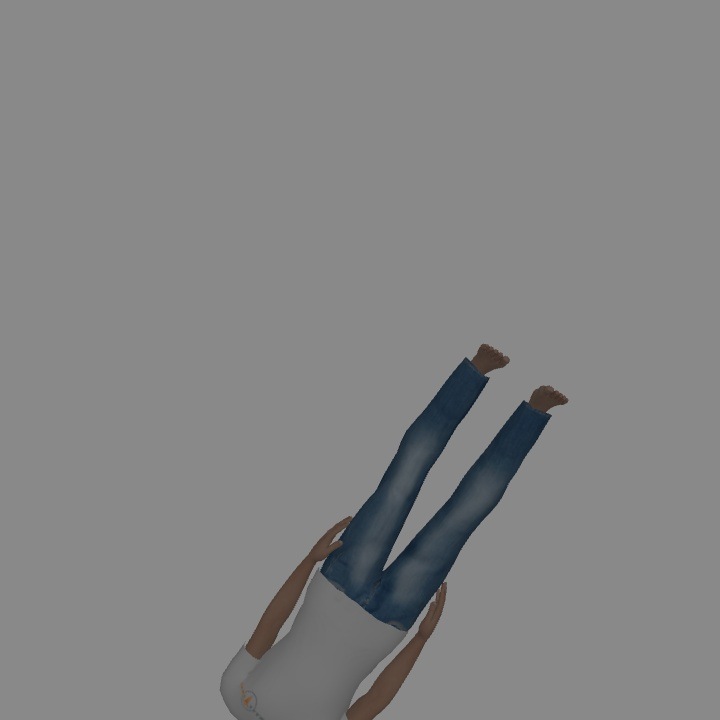victim: (222, 341, 561, 717)
